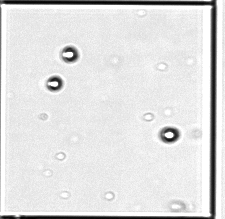Living Cell: (61, 45, 78, 63), (161, 127, 180, 143), (46, 76, 63, 91)
